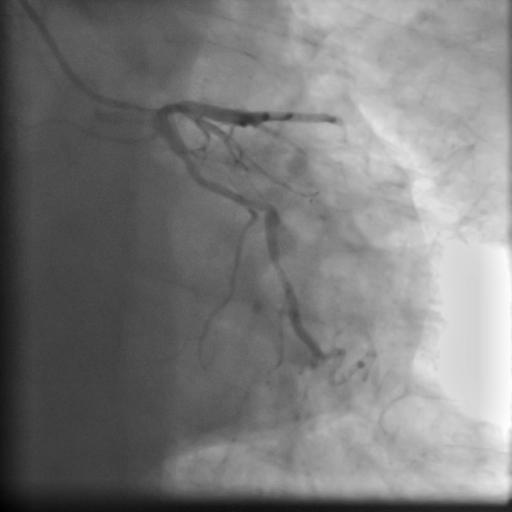Stenosis: (246, 192, 274, 218)
